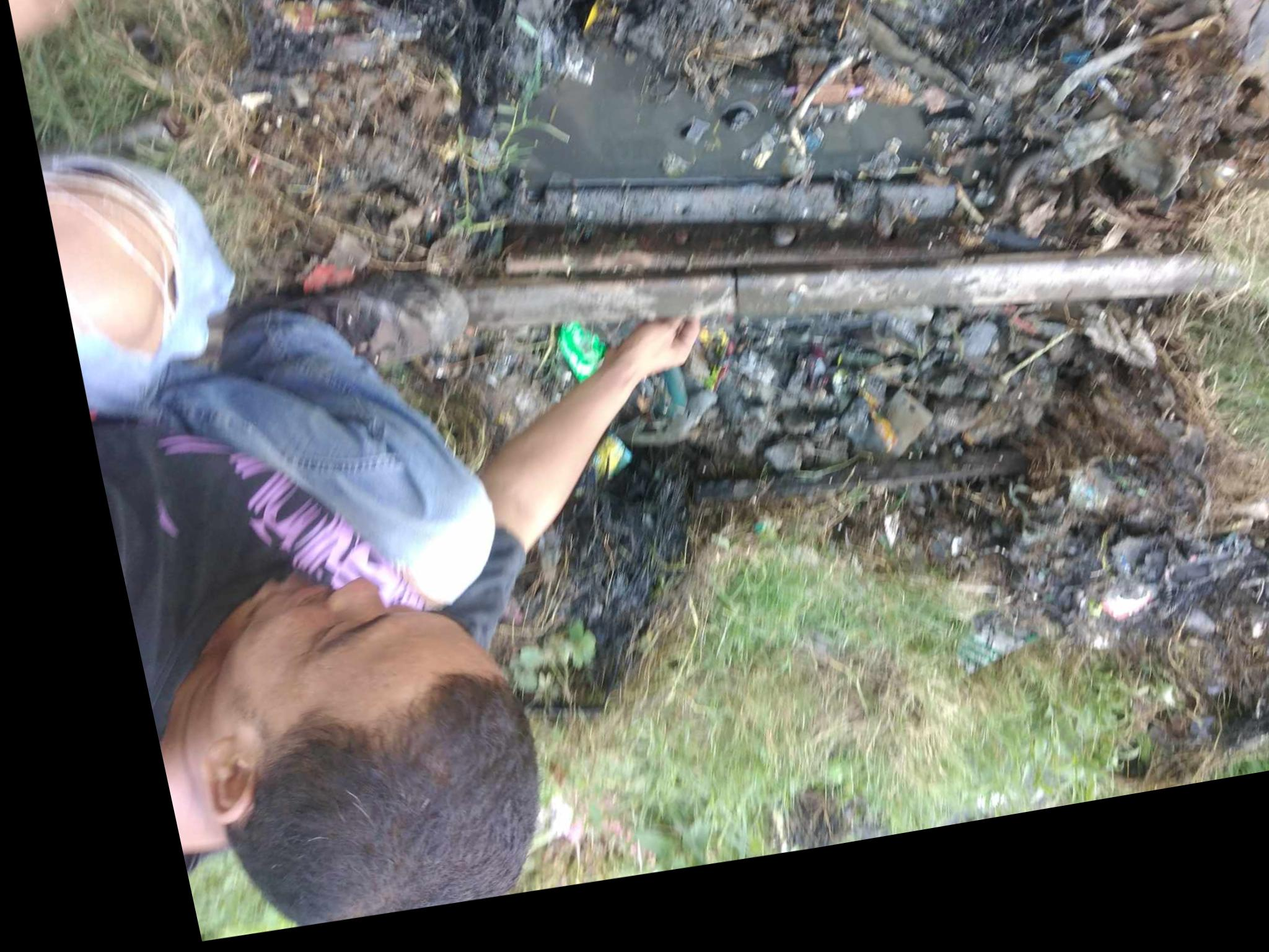person: (651, 250, 790, 384)
